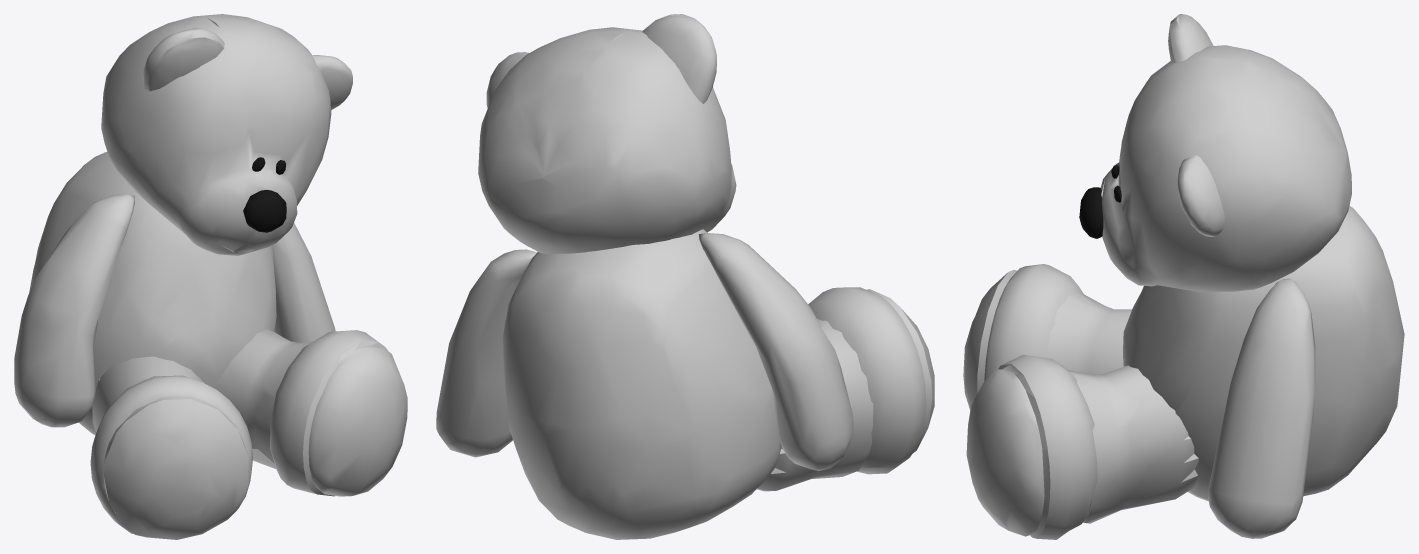
Rendered from Bear.FBX.
3 renders of one model, left to right at view 1: azimuth 30°, elevation 25°; view 2: azimuth 150°, elevation 25°; view 3: azimuth 270°, elevation 25°, orthographic. The views are drawn at different scales.
Parts seen in each view (by area): view 1: Bear; view 2: Bear; view 3: Bear.
Part boxes in pixels (x1,y1,x2,y2): Bear: [14, 14, 407, 539]; Bear: [436, 14, 934, 539]; Bear: [963, 14, 1404, 539].
Size of the model in its own units: 28.01 by 34.36 by 29.61.
